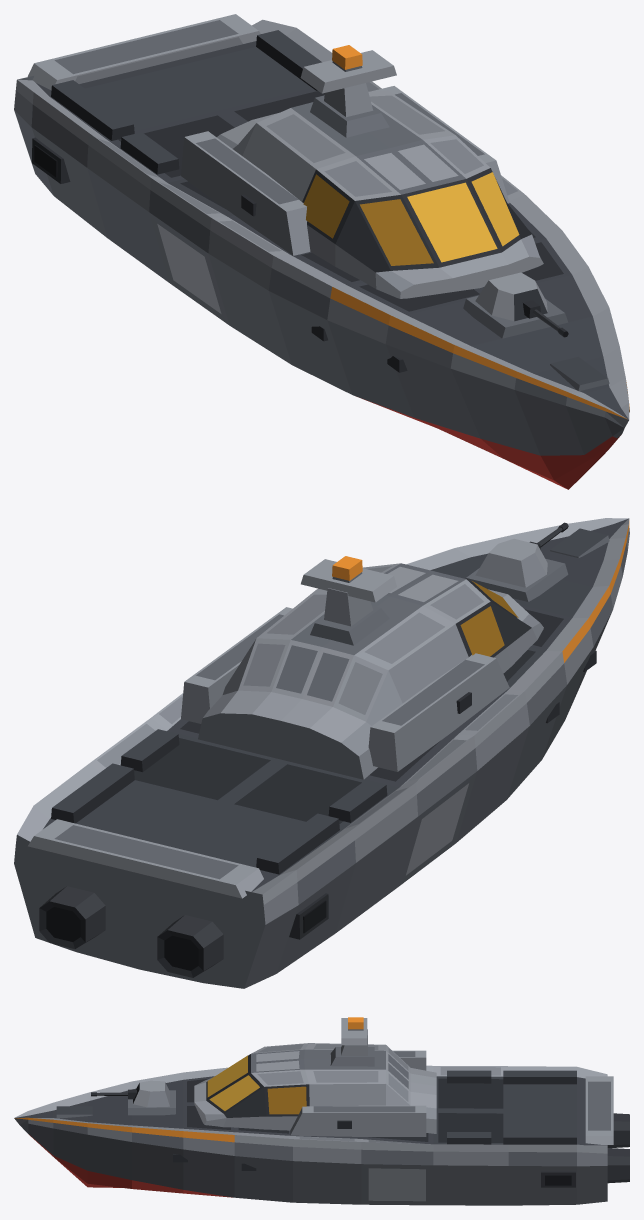
Rendered from boat.glb.
3 views of the same model, one above another, from view 1: azimuth 30°, elevation 25°; view 2: azimuth 150°, elevation 25°; view 3: azimuth 270°, elevation 25° (orthographic). The views are drawn at different scales.
Parts seen in each view (by area): view 1: BOAT_hull, BOAT_cabin, BOAT_glass, BOAT_turret, BOAT_mast, BOAT_radar; view 2: BOAT_hull, BOAT_cabin, BOAT_turret, BOAT_mast, BOAT_waterjet_L, BOAT_waterjet_R, BOAT_radar, BOAT_glass; view 3: BOAT_hull, BOAT_cabin, BOAT_glass, BOAT_turret, BOAT_mast, BOAT_waterjet_L, BOAT_waterjet_R, BOAT_radar.
Part boxes in pixels (x1=…): BOAT_hull: x1=14, y1=14, x2=629, y2=489; BOAT_cabin: x1=181, y1=86, x2=543, y2=298; BOAT_glass: x1=303, y1=172, x2=519, y2=265; BOAT_turret: x1=463, y1=272, x2=568, y2=338; BOAT_mast: x1=310, y1=45, x2=389, y2=137; BOAT_radar: x1=300, y1=50, x2=396, y2=93; BOAT_hull: x1=14, y1=518, x2=629, y2=988; BOAT_cabin: x1=181, y1=563, x2=543, y2=779; BOAT_turret: x1=466, y1=538, x2=568, y2=601; BOAT_mast: x1=310, y1=556, x2=389, y2=645; BOAT_waterjet_L: x1=39, y1=886, x2=105, y2=948; BOAT_waterjet_R: x1=157, y1=915, x2=223, y2=977; BOAT_radar: x1=301, y1=559, x2=396, y2=602; BOAT_glass: x1=460, y1=581, x2=518, y2=656; BOAT_hull: x1=14, y1=1065, x2=613, y2=1205; BOAT_cabin: x1=194, y1=1043, x2=436, y2=1136; BOAT_glass: x1=207, y1=1055, x2=306, y2=1114; BOAT_turret: x1=128, y1=1080, x2=175, y2=1115; BOAT_mast: x1=330, y1=1017, x2=374, y2=1066; BOAT_waterjet_L: x1=607, y1=1148, x2=629, y2=1183; BOAT_waterjet_R: x1=607, y1=1113, x2=629, y2=1147; BOAT_radar: x1=341, y1=1018, x2=367, y2=1045.
Bounding box in the file's own units: 5.52 × 5.43 × 18.
